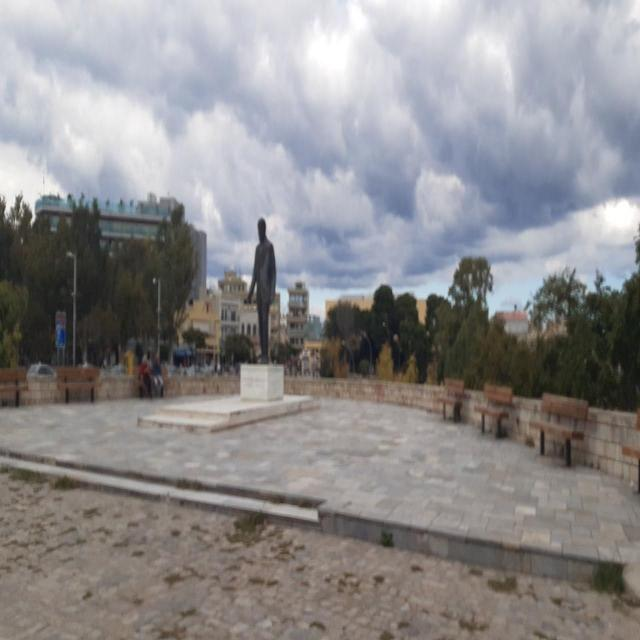Venizelos: (246, 220, 278, 361)
